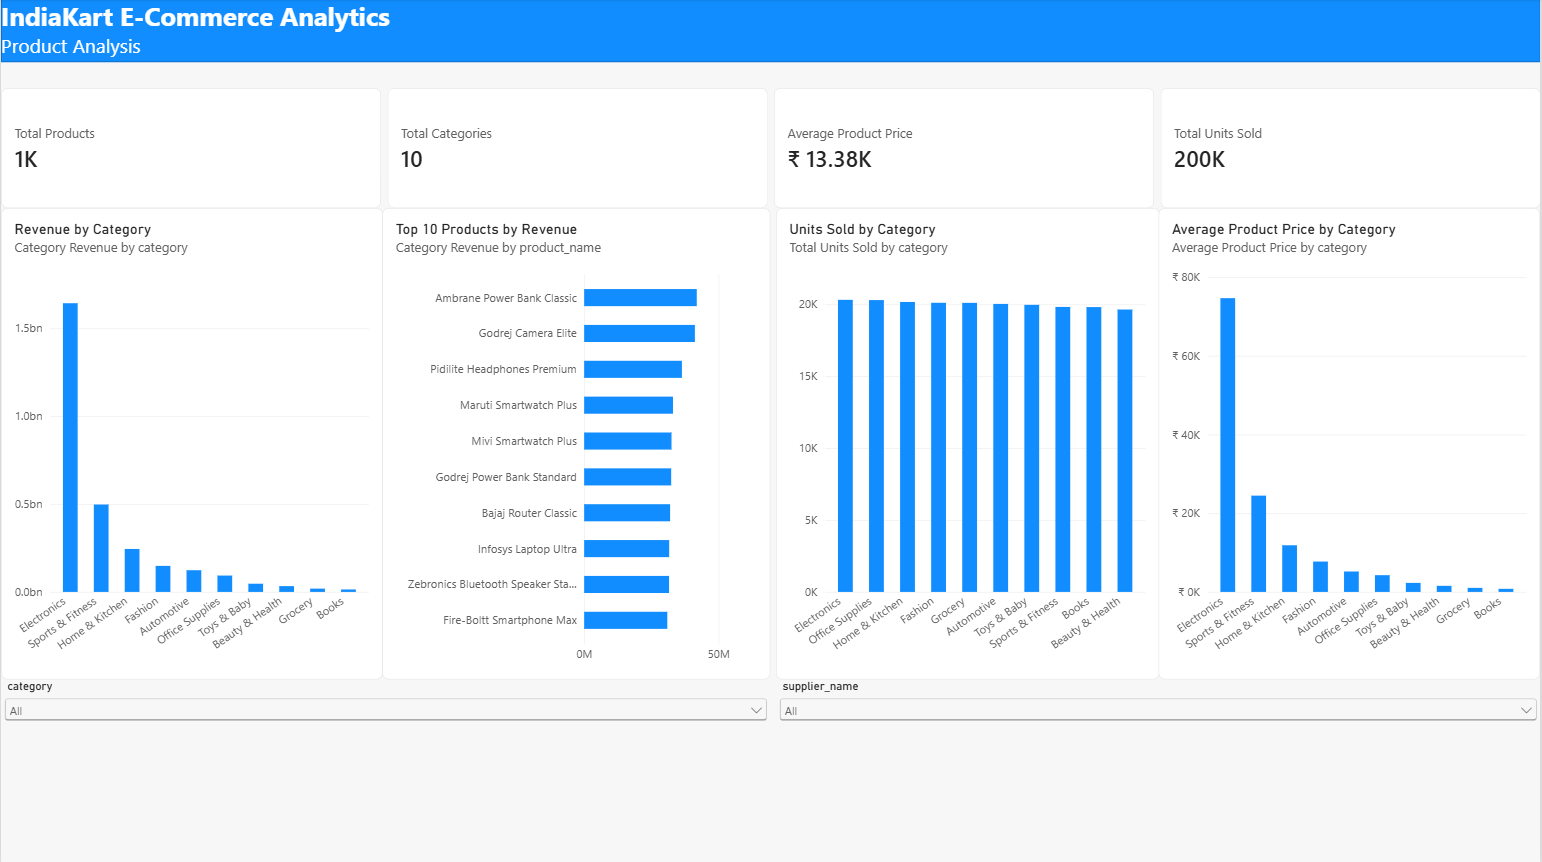

This screenshot's page, from the dashboard's own definition file:
{"tool":"powerbi","page":{"name":"Product Analysis","canvas":[1920,1080],"ordinal":2},"visuals":[{"type":"shape","box":[0,0,1920,80],"z":0},{"type":"textbox","box":[0,0,1920,80],"z":2},{"type":"cardVisual","fields":{"Data":["Products.Total Products","Customers.Total Categories","Customers.Average Product Price","Customers.Total Units Sold"]},"box":[0,112,1920,150],"z":3},{"type":"lineClusteredColumnComboChart","title":"Revenue by Category","fields":{"Category":["Products.category"],"Y":["Order Items.Category Revenue"]},"box":[0,262,476,588],"z":4},{"type":"clusteredBarChart","title":"Top 10 Products by Revenue","fields":{"Category":["Order Items.product_name"],"Y":["Order Items.Category Revenue"]},"box":[476,262,484,588],"z":5},{"type":"lineClusteredColumnComboChart","title":"Units Sold by Category","fields":{"Category":["Order Items.category"],"Y":["Customers.Total Units Sold"]},"box":[966,262,478,588],"z":6},{"type":"lineClusteredColumnComboChart","title":"Average Product Price by Category","fields":{"Category":["Products.category"],"Y":["Customers.Average Product Price"]},"box":[1444,262,476,588],"z":7},{"type":"slicer","fields":{"Values":["Products.category"]},"box":[0,850,960,230],"z":8},{"type":"slicer","fields":{"Values":["Suppliers.supplier_name"]},"box":[966,850,954,230],"z":9}]}

Visuals, with their boxes in screenshot pixels (x1, y1, x2, y2), scaled from the page's 1920x1080 canvas onto the 1542x862 screenshot:
shape: 0 0 1541 64
textbox: 0 0 1541 64
cardVisual - Products.Total Products x Customers.Total Categories: 0 89 1541 209
"Revenue by Category" lineClusteredColumnComboChart: 0 209 382 678
"Top 10 Products by Revenue" clusteredBarChart: 382 209 771 678
"Units Sold by Category" lineClusteredColumnComboChart: 776 209 1160 678
"Average Product Price by Category" lineClusteredColumnComboChart: 1160 209 1541 678
slicer - Products.category: 0 678 771 861
slicer - Suppliers.supplier_name: 776 678 1541 861
